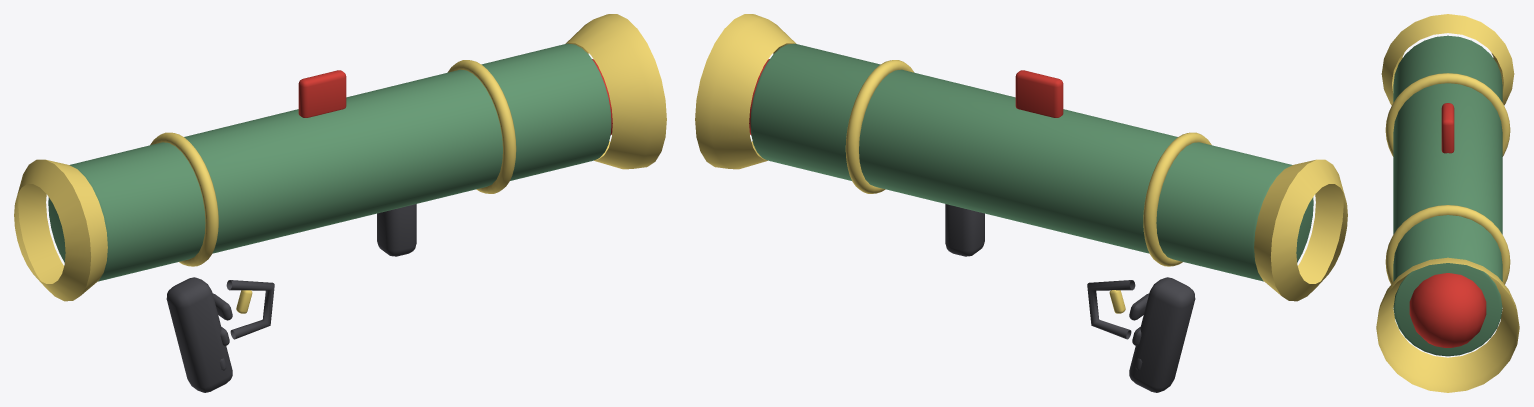
Rendered from rocket.glb.
3 views of the same model, side by side, from view 1: azimuth 30°, elevation 25°; view 2: azimuth 150°, elevation 25°; view 3: azimuth 270°, elevation 25° (orthographic). The views are drawn at different scales.
Parts seen in each view (by area): view 1: tube, rear, mouth, handle, band-1, band1, sight, foregrip, guard; view 2: tube, rear, mouth, handle, band-1, band1, sight, foregrip, guard; view 3: tube, mouth, nose, rear, band-1, band1, sight.
Boxes of the visible parts, bbox=[...] form: tube: bbox=[48, 43, 611, 281]; rear: bbox=[14, 159, 107, 301]; mouth: bbox=[565, 14, 666, 169]; handle: bbox=[166, 277, 232, 392]; band-1: bbox=[150, 132, 218, 266]; band1: bbox=[447, 60, 516, 193]; sight: bbox=[298, 70, 346, 117]; foregrip: bbox=[377, 204, 416, 256]; guard: bbox=[226, 280, 274, 339]; tube: bbox=[750, 43, 1313, 281]; rear: bbox=[1254, 159, 1347, 301]; mouth: bbox=[695, 14, 796, 169]; handle: bbox=[1129, 277, 1195, 392]; band-1: bbox=[1143, 132, 1211, 266]; band1: bbox=[845, 60, 914, 193]; sight: bbox=[1015, 70, 1063, 117]; foregrip: bbox=[945, 204, 984, 256]; guard: bbox=[1087, 280, 1135, 339]; tube: bbox=[1393, 35, 1502, 356]; mouth: bbox=[1376, 257, 1519, 392]; nose: bbox=[1409, 273, 1486, 347]; rear: bbox=[1381, 14, 1514, 105]; band-1: bbox=[1385, 73, 1510, 156]; band1: bbox=[1385, 205, 1510, 284]; sight: bbox=[1441, 103, 1454, 153].
Size of the model in its own units: 0.79 by 0.3655 by 0.184.
